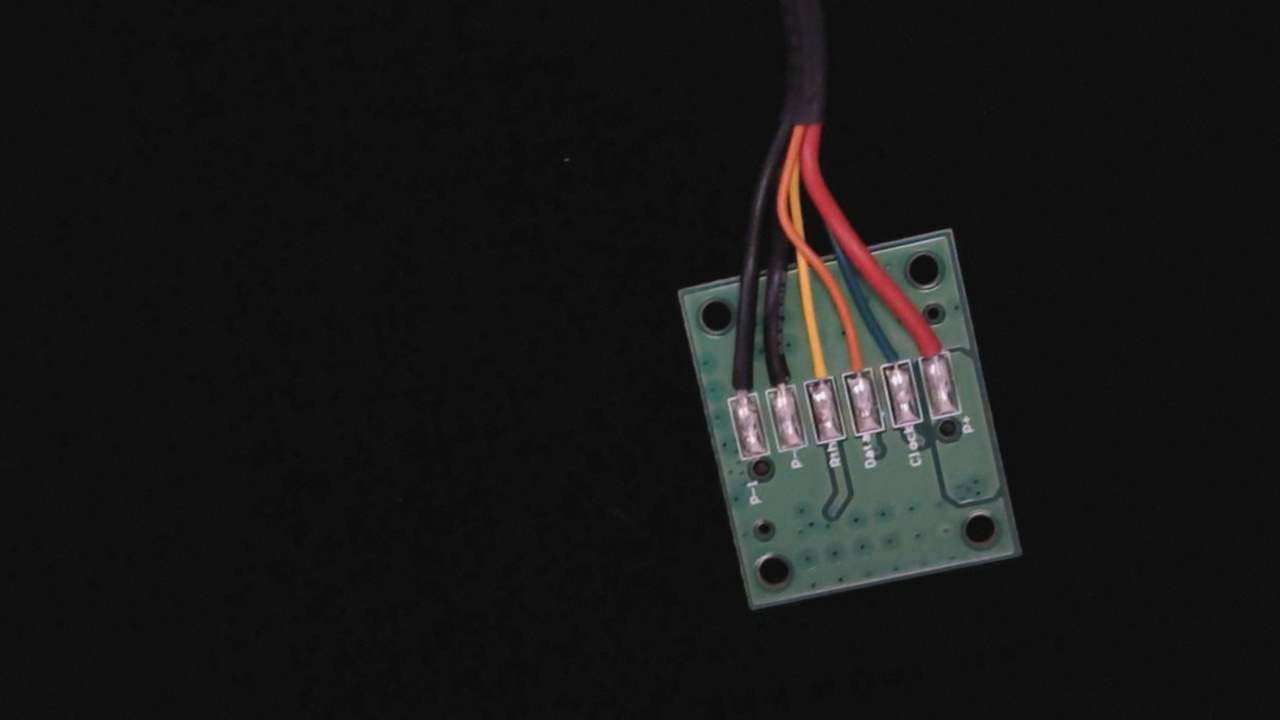Black: (758, 341, 799, 407)
Black1: (715, 346, 760, 418)
Green: (870, 323, 913, 383)
Orange: (831, 324, 875, 392)
Red: (906, 300, 952, 375)
Yellow: (793, 330, 838, 399)
